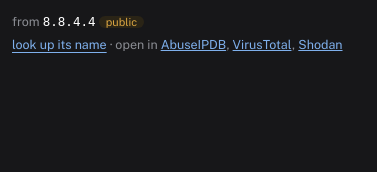
Test: one address in an alert › says when no name is registered
Click the button "look up its name": [59, 45] box 12,36 -> 107,55
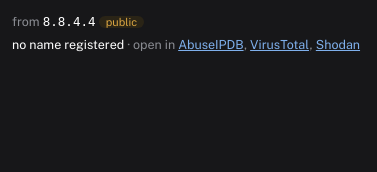
Check: the text "no name registered" is shown, box 12,37 -> 124,52
